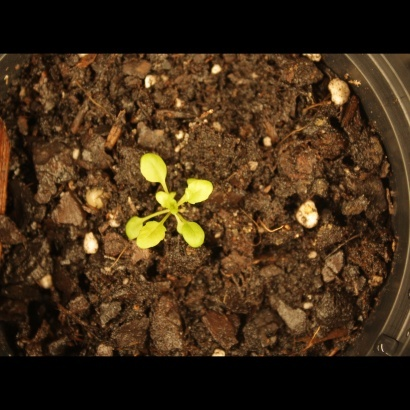leaf: (135, 146, 171, 189), (179, 219, 211, 253), (180, 176, 217, 205), (137, 221, 168, 251), (151, 187, 178, 215), (120, 214, 145, 240)
